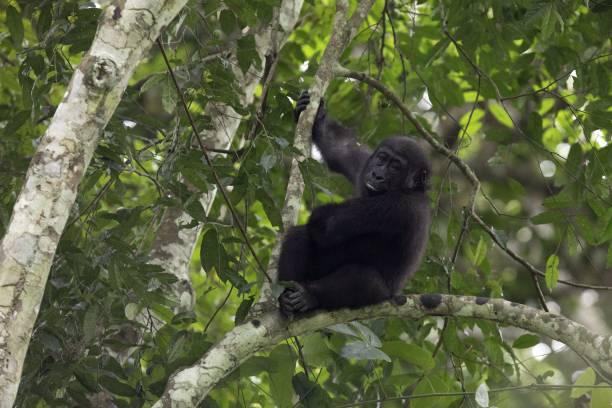gorille_Autres: (260, 91, 476, 341)
